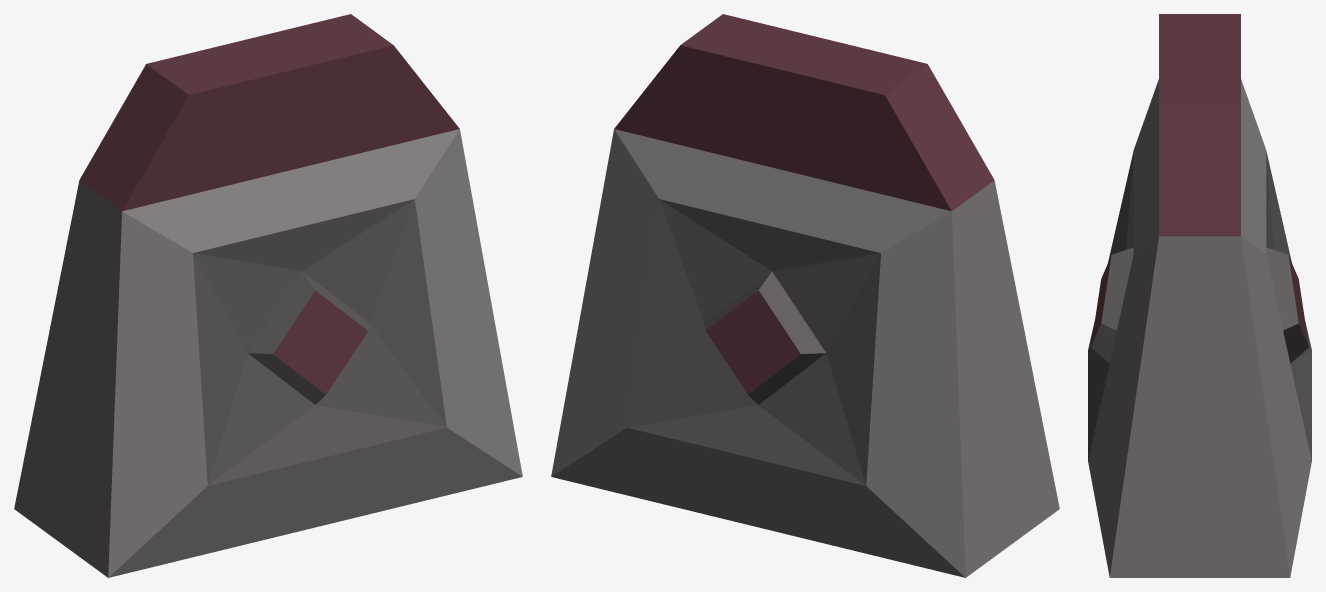
File: scifi-barrier-small.fbx
3 views of the same model, side by side, from view 1: azimuth 30°, elevation 25°; view 2: azimuth 150°, elevation 25°; view 3: azimuth 270°, elevation 25° (orthographic). The views are drawn at different scales.
Visible parts, largest first — view 1: scifi-barrier-small; view 2: scifi-barrier-small; view 3: scifi-barrier-small.
Boxes of the visible parts, <box> form: scifi-barrier-small: <box>14,14,522,577</box>; scifi-barrier-small: <box>551,14,1059,577</box>; scifi-barrier-small: <box>1088,14,1311,577</box>.
Bounding box in the file's own units: 1.01 × 1.02 × 0.4939.
